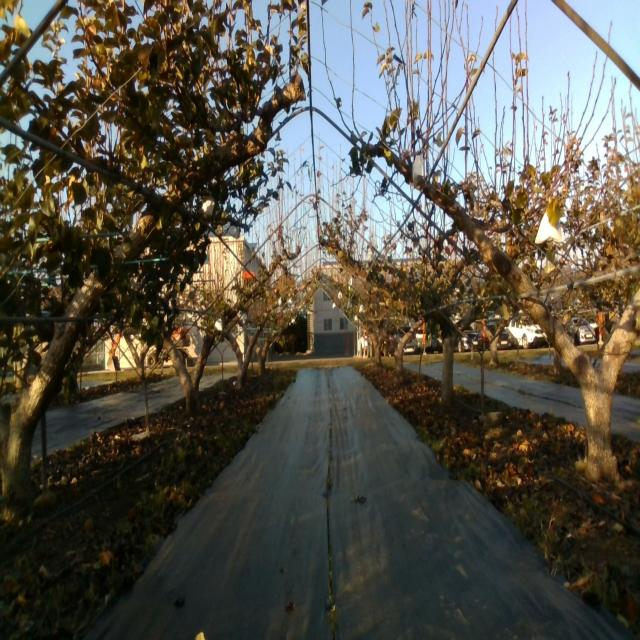pearbags: (534, 212, 564, 244), (198, 191, 215, 217), (413, 154, 425, 190)
